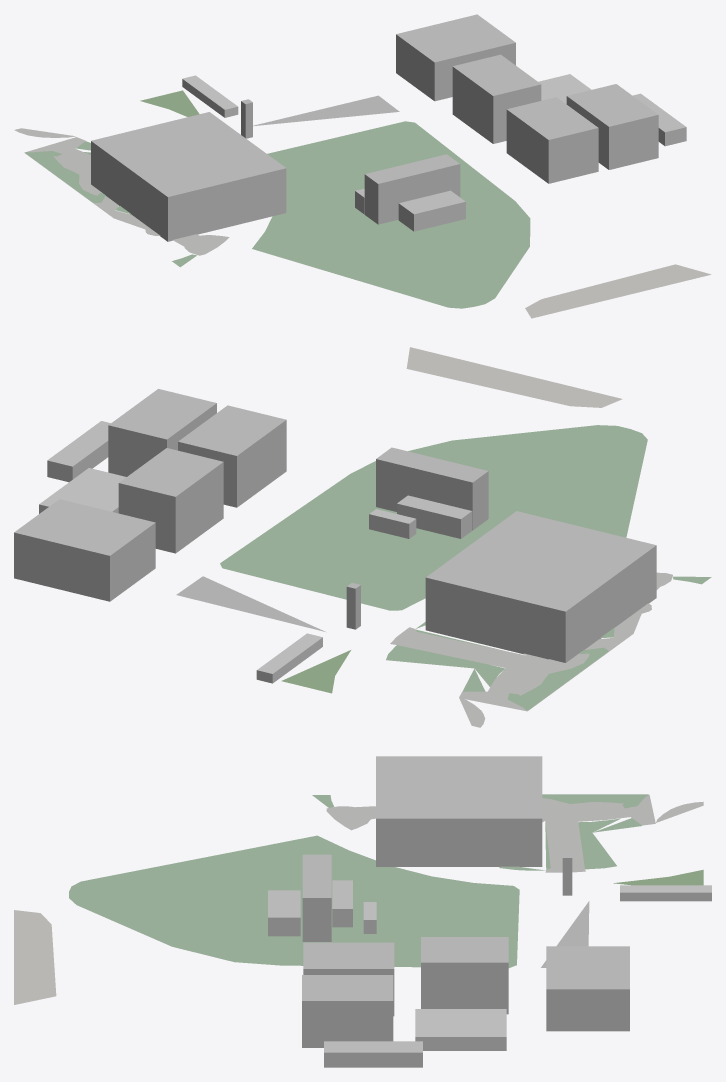
Rendered from 136_105_mid.glb.
3 views of the same model, one above another, from view 1: azimuth 30°, elevation 25°; view 2: azimuth 150°, elevation 25°; view 3: azimuth 270°, elevation 25° (orthographic). The views are drawn at different scales.
Size of the model in its own units: 463 by 42.02 by 506.
